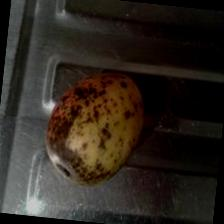Mango Rotten: (33, 65, 146, 190)
